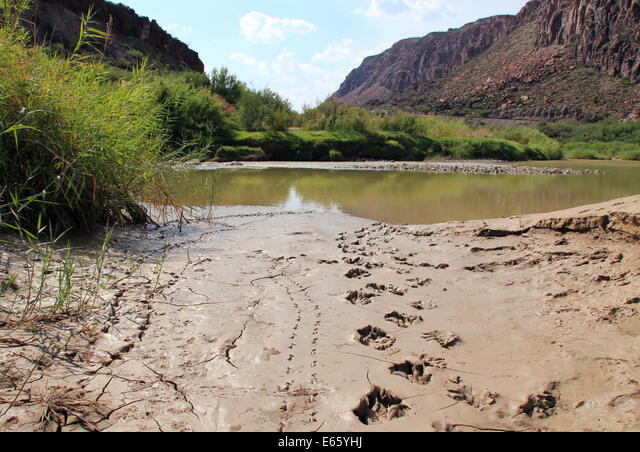bear: (356, 385, 405, 428), (387, 354, 437, 390), (352, 320, 398, 356)
